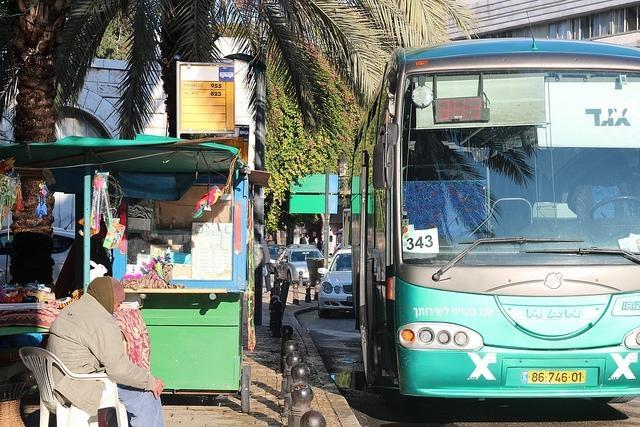bus: (342, 10, 639, 404)
car: (316, 249, 354, 320), (273, 244, 325, 283), (270, 248, 286, 273)
